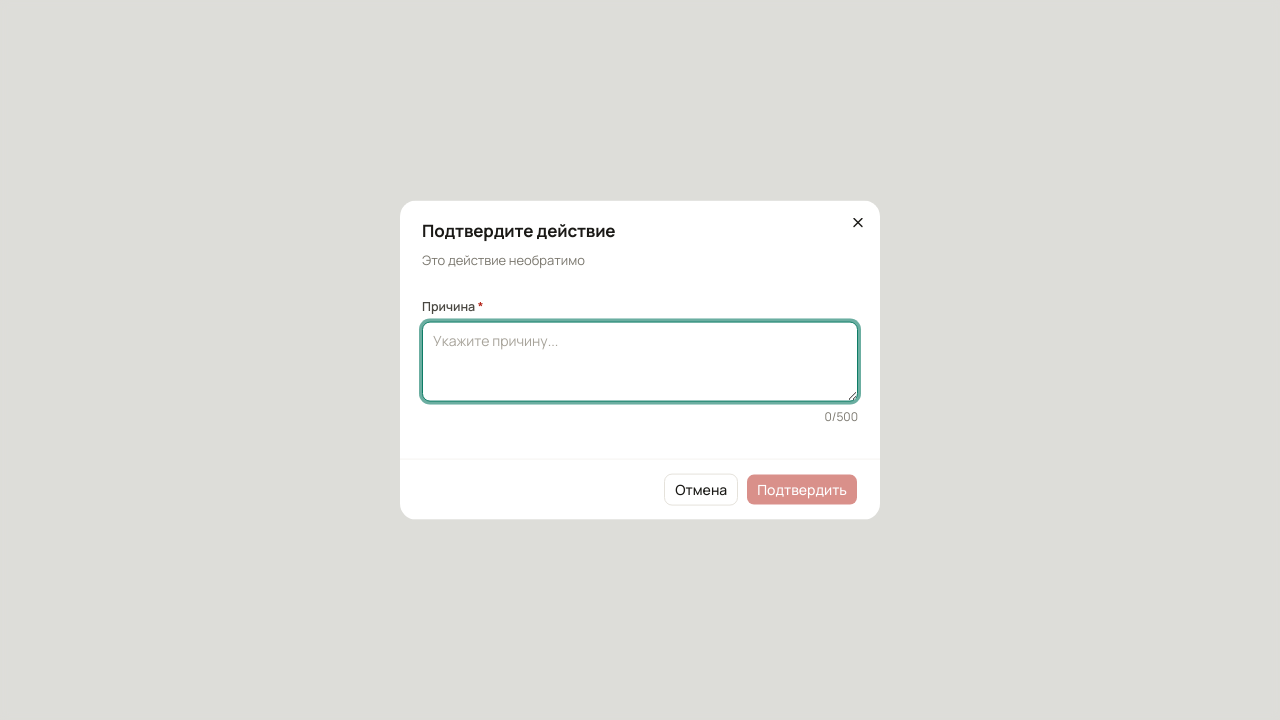
Test: DestructiveConfirm › enables confirm button once reason meets minLen
Type "abc" into the text box with placeholder "Укажите причину...".
click(640, 361); type("abc")  # box 422,321 -> 858,401
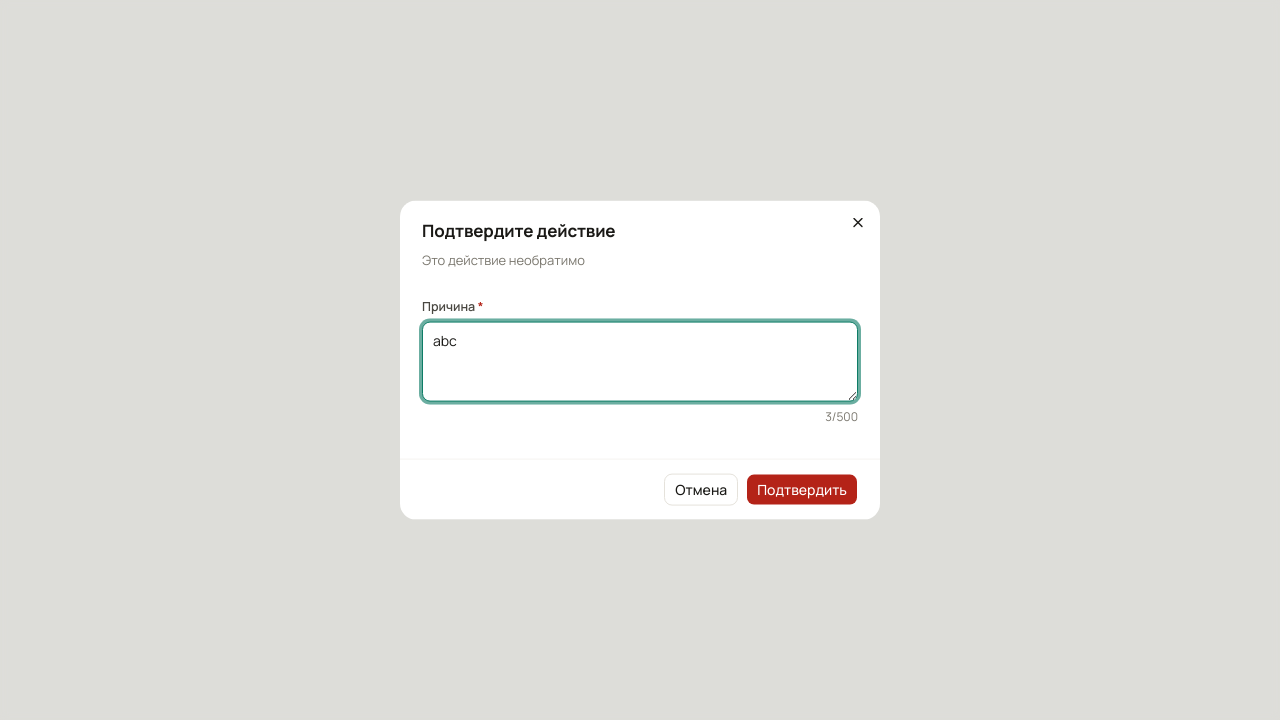
Expected: the button "Подтвердить" is enabled, 746,473 -> 858,505
